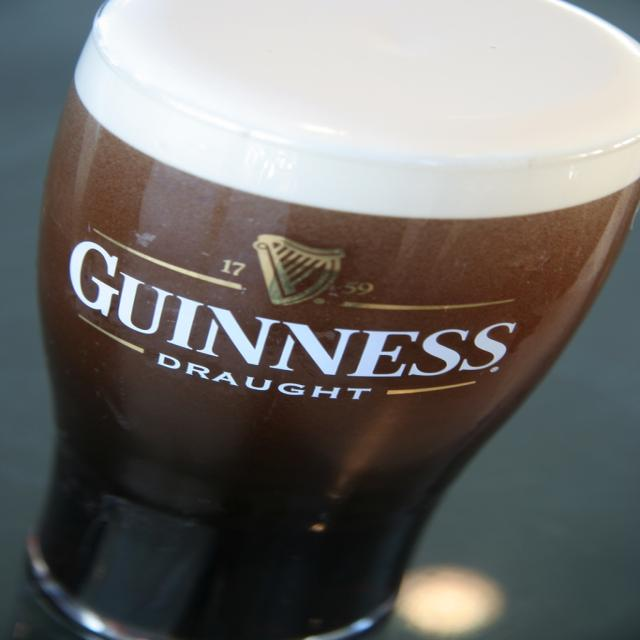guiness: (61, 233, 523, 384)
